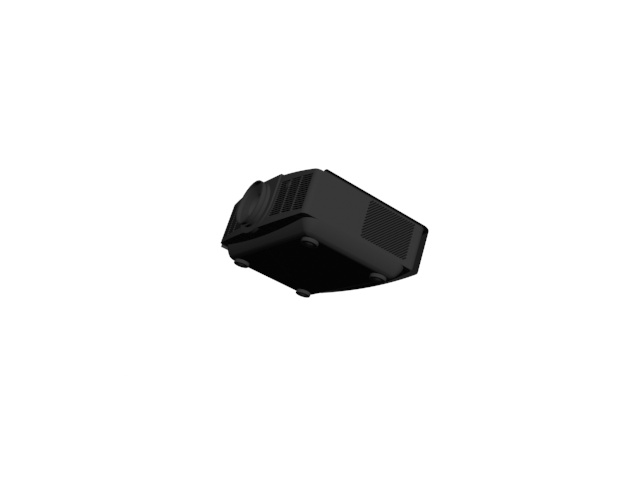projector: (217, 169, 432, 304)
